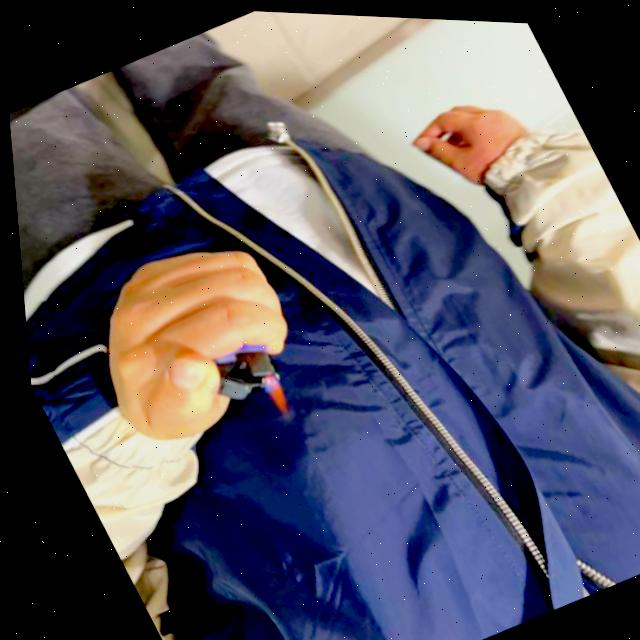Fire: (254, 372, 288, 416)
